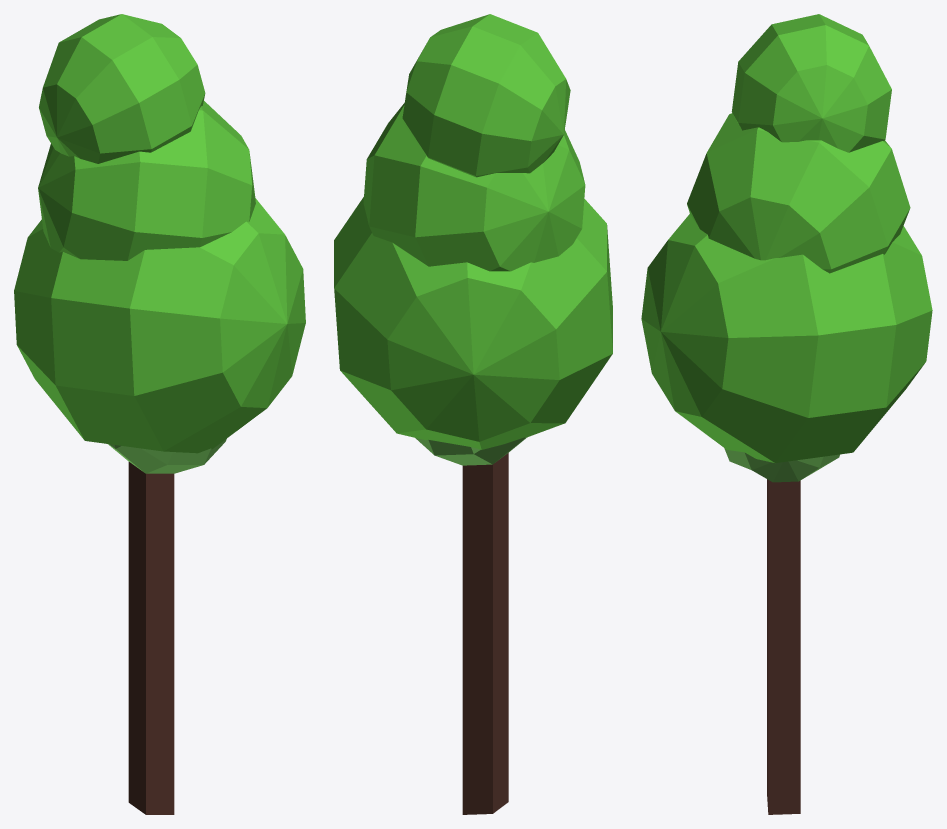
File: tree2.obj
3 views of the same model, side by side, from view 1: azimuth 30°, elevation 25°; view 2: azimuth 150°, elevation 25°; view 3: azimuth 270°, elevation 25° (orthographic). The views are drawn at different scales.
Parts seen in each view (by area): view 1: ROAD.428; view 2: ROAD.428; view 3: ROAD.428.
Boxes of the visible parts, x1,y1,x2,y2 form: ROAD.428: (14, 14, 305, 814); ROAD.428: (334, 14, 612, 814); ROAD.428: (641, 14, 932, 814).
Size of the model in its own units: 10.75 by 33.55 by 11.37.
Materials: 1 (1 with a texture image).
